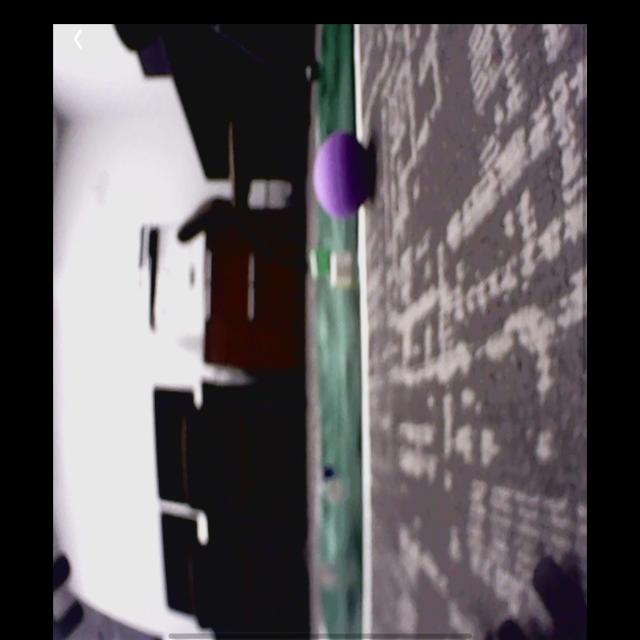ball: (313, 134, 368, 217)
